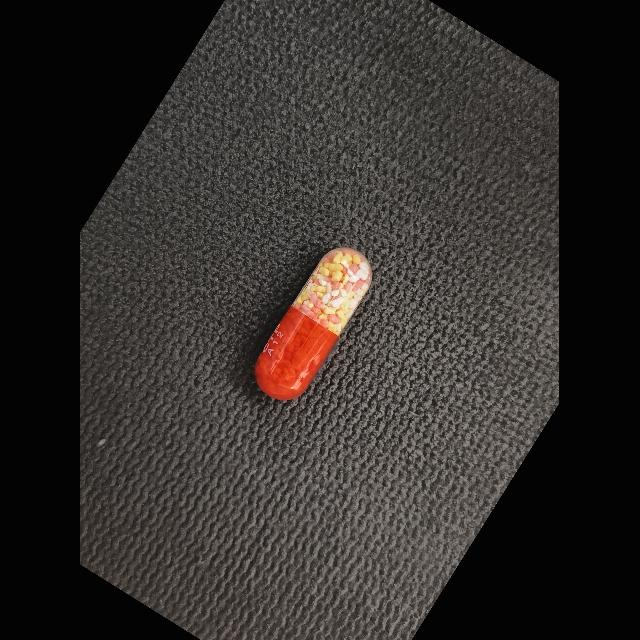Intact Capsule: (255, 248, 373, 400)
